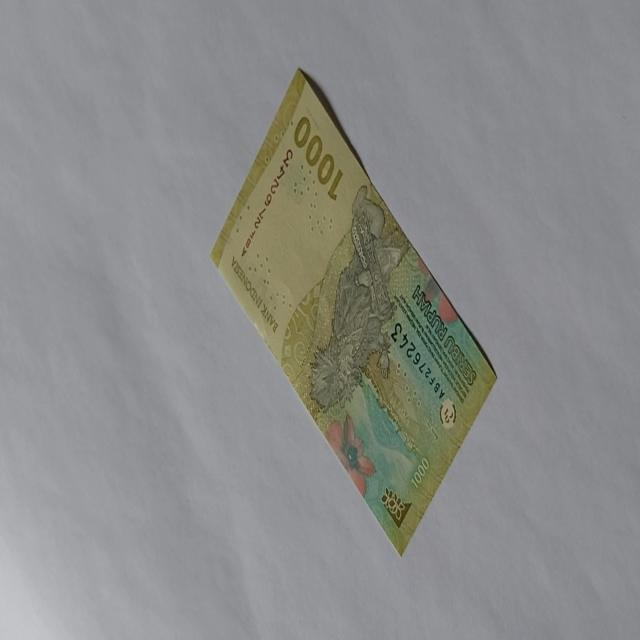seribu rupiah kertas: (210, 65, 498, 558)
